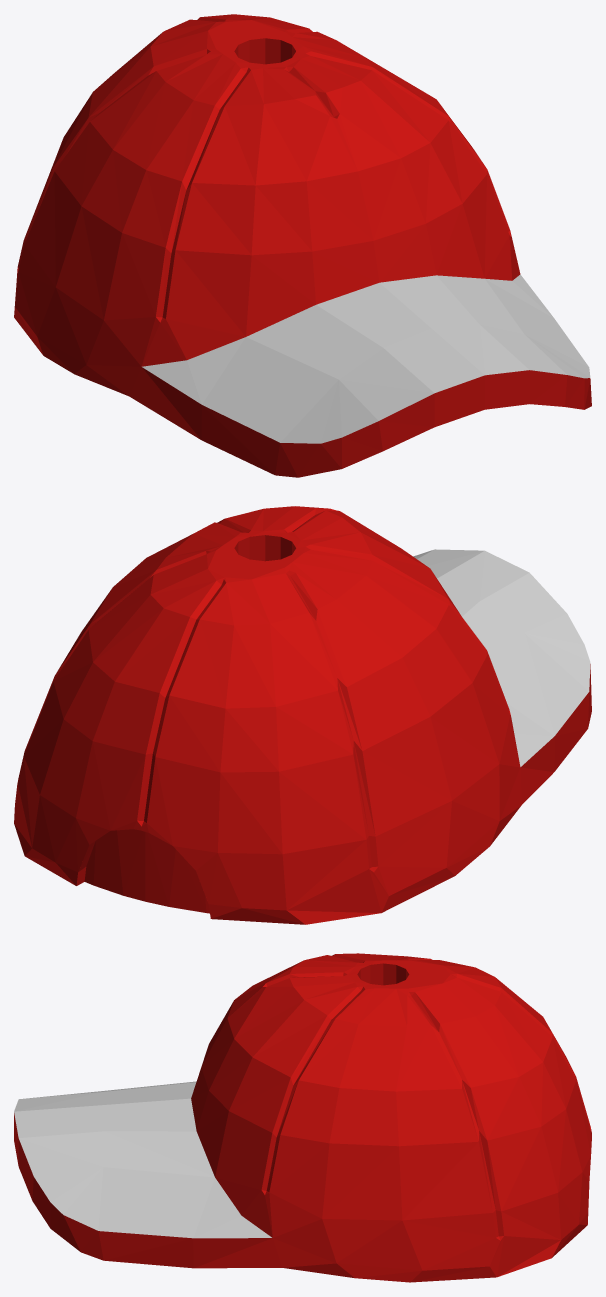
File: PlayerCap.fbx
3 views of the same model, one above another, from view 1: azimuth 30°, elevation 25°; view 2: azimuth 150°, elevation 25°; view 3: azimuth 270°, elevation 25° (orthographic). The views are drawn at different scales.
Visible parts, largest first — view 1: Material004, Material.001; view 2: Material004, Material.001; view 3: Material004, Material.001.
Part boxes in pixels (bbox=[...]): Material004: bbox=[14, 14, 591, 477]; Material.001: bbox=[142, 274, 590, 443]; Material004: bbox=[14, 506, 591, 924]; Material.001: bbox=[413, 549, 590, 766]; Material004: bbox=[14, 953, 591, 1282]; Material.001: bbox=[14, 1081, 271, 1238].
Bounding box in the file's own units: 118 × 73.72 × 169.
